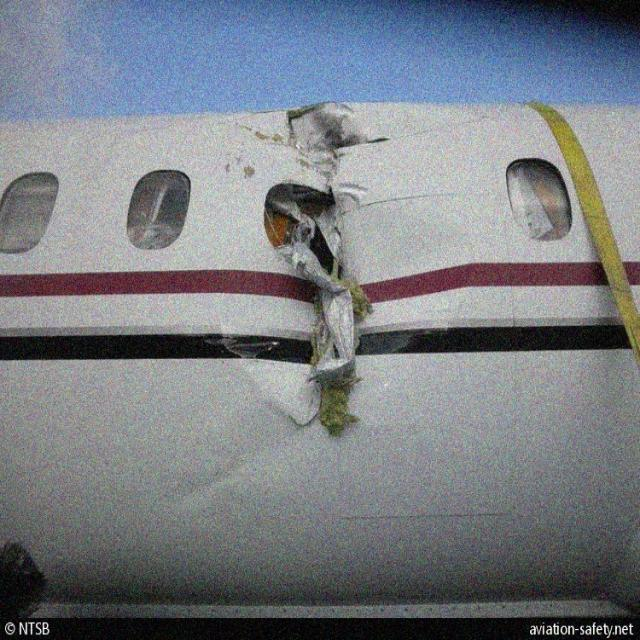crack: (254, 106, 414, 451)
dent: (161, 417, 315, 516), (377, 208, 471, 360)
